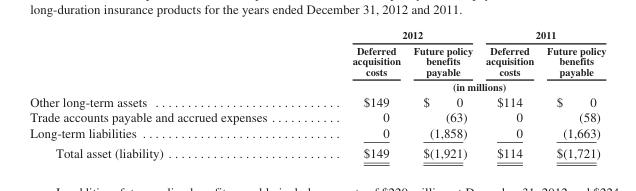table: (29, 28, 605, 160)
table column: (29, 28, 309, 160), (309, 28, 406, 160), (406, 28, 478, 160), (539, 28, 605, 160), (478, 28, 539, 160)
table column header: (29, 28, 605, 93)
table row: (29, 42, 605, 78), (29, 124, 605, 142), (29, 142, 605, 160), (29, 108, 605, 124), (29, 78, 605, 93), (29, 93, 605, 108), (29, 28, 605, 42)
table spanning cell: (309, 78, 605, 93), (309, 28, 478, 42), (478, 28, 605, 42)
